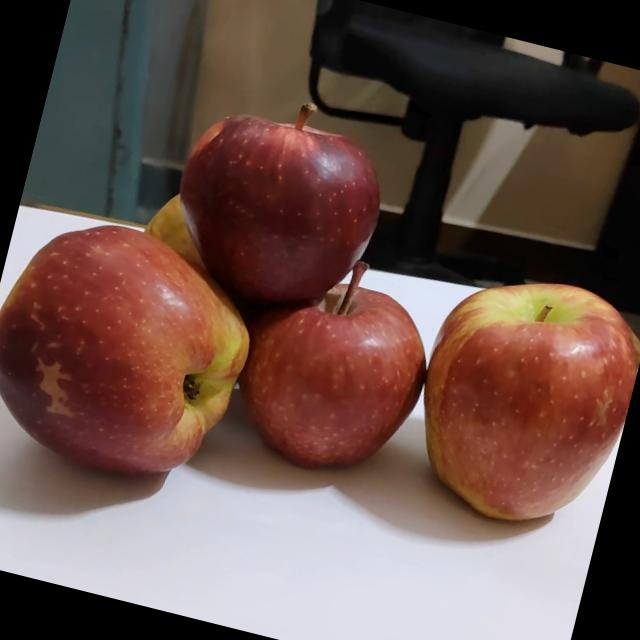apple: (0, 197, 272, 506), (394, 250, 640, 539), (151, 69, 407, 328), (217, 236, 450, 493), (130, 178, 248, 286)
